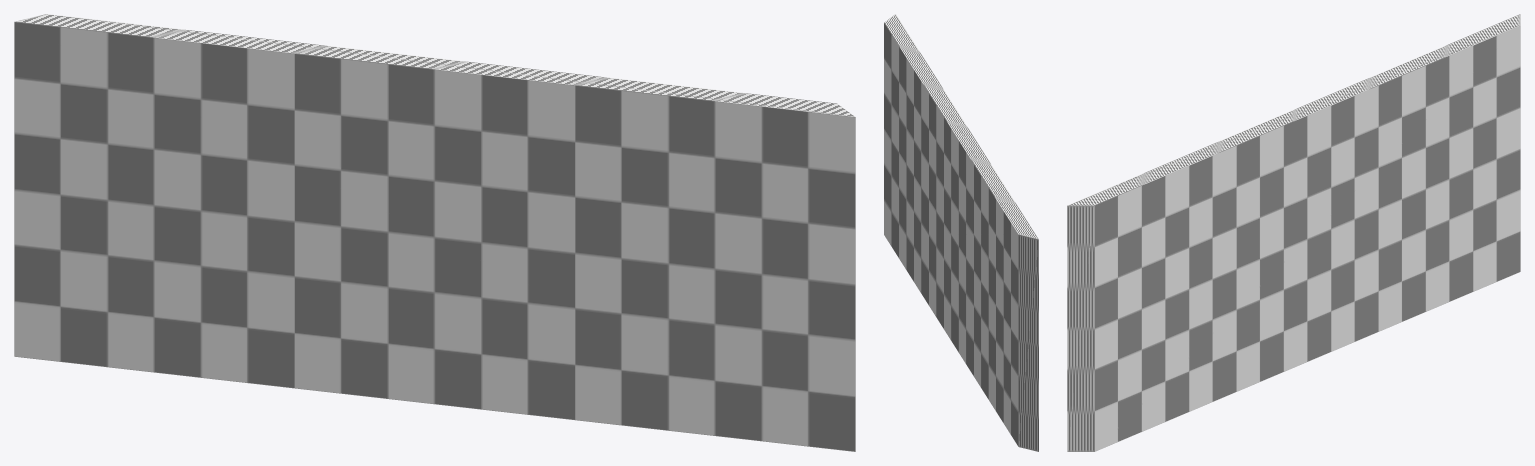
File: CorridorWallOut.fbx
The picture shows the model from 3 angles, left to right: view 1: azimuth 30°, elevation 25°; view 2: azimuth 150°, elevation 25°; view 3: azimuth 270°, elevation 25°; orthographic projection. The views are drawn at different scales.
Visible parts, largest first — view 1: CorridorWallOut; view 2: CorridorWallOut; view 3: CorridorWallOut.
Boxes of the visible parts, left/top/right/bottom form: CorridorWallOut: left=14, top=14, right=855, bottom=451; CorridorWallOut: left=884, top=14, right=1038, bottom=451; CorridorWallOut: left=1067, top=14, right=1520, bottom=451.
Size of the model in its own units: 197 by 197 by 118.
Materials: 1 (1 with a texture image).
